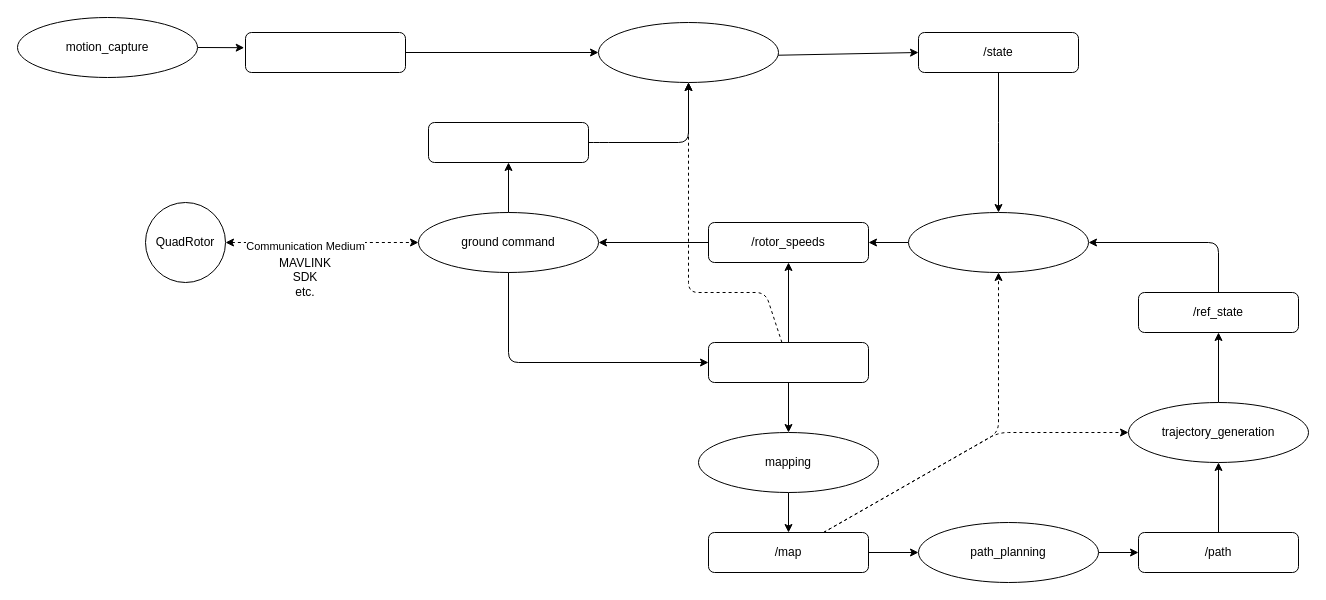
Some shapes in this 1326 by 600 pixel diagram are drawn without their labels. The shapes that lost their labels are listed below. From the top down, each one's centre as x and y in pixels, then its label:
[325,52]: /motion_data
[688,52]: state_estimation
[508,142]: /imu_data
[998,242]: tracking
[788,362]: /img
